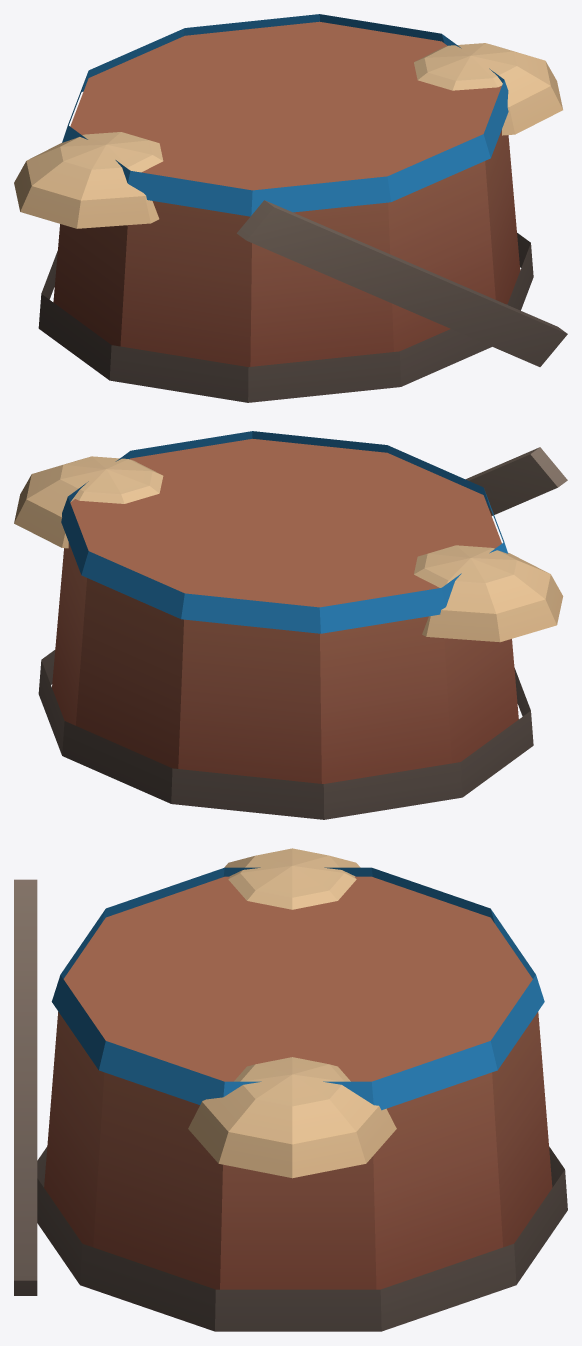
Rendered from berserker_hunter_chest_t2.glb.
3 views of the same model, one above another, from view 1: azimuth 30°, elevation 25°; view 2: azimuth 150°, elevation 25°; view 3: azimuth 270°, elevation 25° (orthographic). The views are drawn at different scales.
Visible parts, largest first — view 1: berserker_hunter_chest_t2__chest; view 2: berserker_hunter_chest_t2__chest; view 3: berserker_hunter_chest_t2__chest.
Part boxes in pixels (<box>): berserker_hunter_chest_t2__chest: <box>14,14,567,402</box>; berserker_hunter_chest_t2__chest: <box>14,431,567,819</box>; berserker_hunter_chest_t2__chest: <box>14,848,567,1331</box>.
Size of the model in its own units: 2.69 by 1.08 by 2.05.
1 material, 1 textured.
